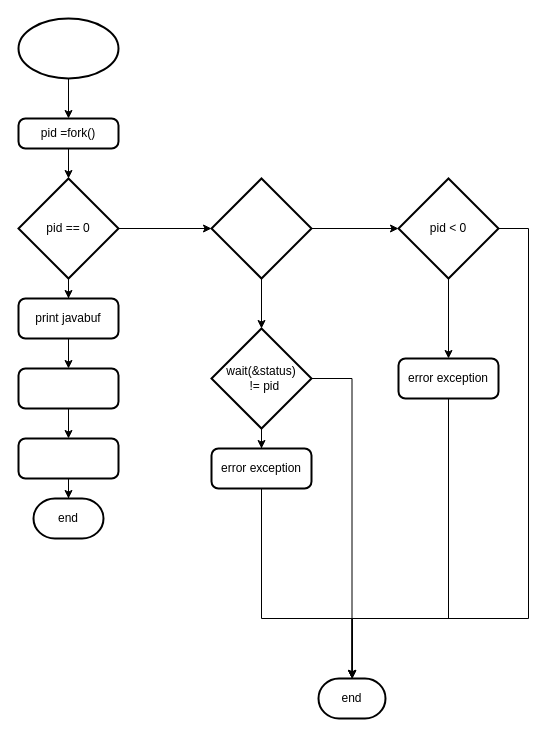
Image size: 554x736. Some labels were removed from this diagram. Here are the shapes that lost their labels. From the top down, the box of each, then its label:
(17, 17, 119, 79): start
(210, 177, 312, 279): pid > 0
(17, 367, 119, 409): printf cFileBuf
(17, 437, 119, 479): sleep(1)
